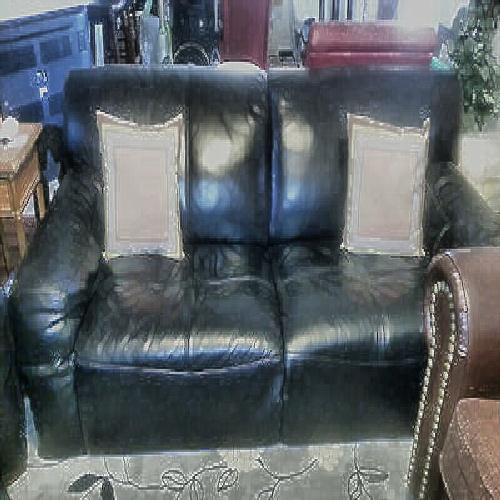chair: (58, 68, 491, 449)
